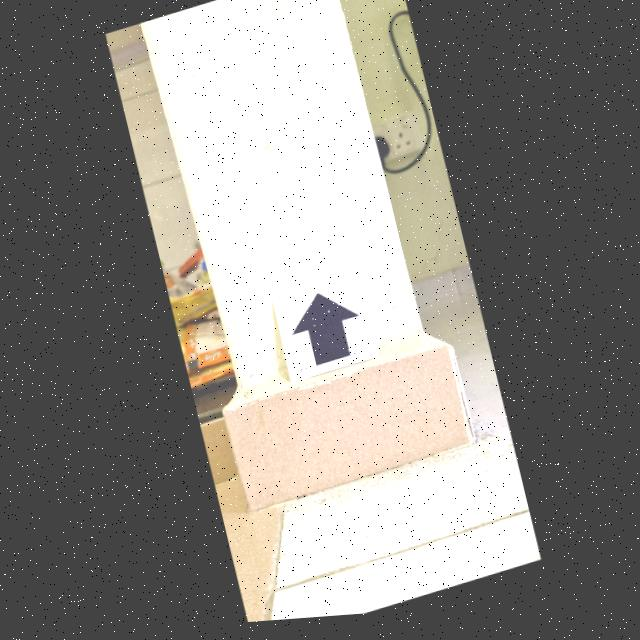UP: (291, 298, 356, 370)
